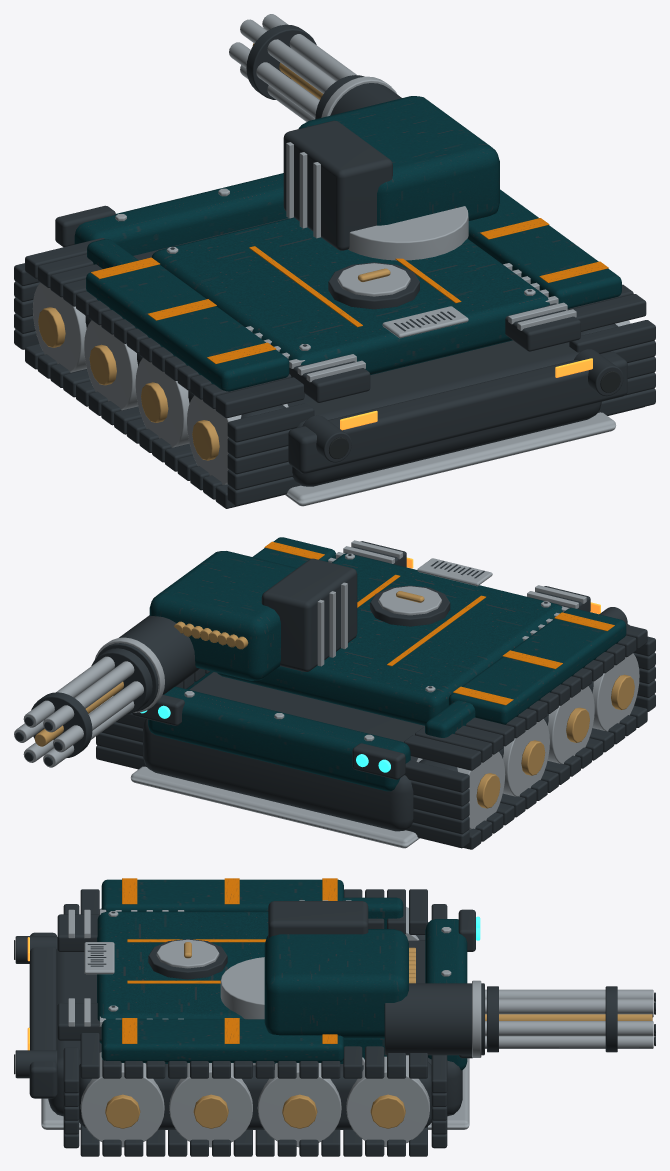
File: sentry.glb
3 views of the same model, one above another, from view 1: azimuth 30°, elevation 25°; view 2: azimuth 150°, elevation 25°; view 3: azimuth 270°, elevation 25° (orthographic). The views are drawn at different scales.
Visible parts, largest first — view 1: Detach_Drive_Left_Track, Detach_Armor_Deck, Detach_Weapon_Receiver, Structural_Chassis, Chassis_detail, Detach_Drive_Right_Track, Detach_Armor_Front, Detach_Weapon_Barrels, Detach_Armor_Left; view 2: Detach_Drive_Left_Track, Detach_Armor_Deck, Structural_Chassis, Detach_Weapon_Receiver, Detach_Armor_Front, Detach_Weapon_Barrels, Detach_Drive_Right_Track, Chassis_detail, Detach_Armor_Left; view 3: Detach_Drive_Right_Track, Detach_Weapon_Receiver, Detach_Armor_Deck, Structural_Chassis, Detach_Weapon_Barrels, Detach_Drive_Left_Track, Chassis_detail, Detach_Armor_Front, Detach_Armor_Left, Detach_Armor_Right.
Part boxes in pixels (bbox=[...]): Detach_Drive_Left_Track: bbox=[14, 238, 314, 508]; Detach_Armor_Deck: bbox=[151, 217, 549, 374]; Detach_Weapon_Receiver: bbox=[283, 76, 499, 260]; Structural_Chassis: bbox=[55, 205, 623, 506]; Chassis_detail: bbox=[288, 306, 627, 473]; Detach_Drive_Right_Track: bbox=[467, 189, 655, 415]; Detach_Armor_Front: bbox=[74, 173, 287, 255]; Detach_Weapon_Barrels: bbox=[229, 14, 364, 121]; Detach_Armor_Left: bbox=[87, 239, 138, 268]; Detach_Drive_Left_Track: bbox=[404, 608, 655, 849]; Detach_Armor_Deck: bbox=[217, 553, 562, 725]; Structural_Chassis: bbox=[130, 540, 627, 848]; Detach_Weapon_Receiver: bbox=[95, 551, 357, 712]; Detach_Armor_Front: bbox=[148, 686, 410, 791]; Detach_Weapon_Barrels: bbox=[14, 648, 152, 767]; Detach_Drive_Right_Track: bbox=[96, 537, 335, 769]; Chassis_detail: bbox=[406, 557, 629, 625]; Detach_Armor_Left: bbox=[425, 700, 475, 737]; Detach_Drive_Right_Track: bbox=[63, 1018, 447, 1156]; Detach_Weapon_Receiver: bbox=[220, 900, 484, 1057]; Detach_Armor_Deck: bbox=[97, 911, 268, 1043]; Structural_Chassis: bbox=[14, 909, 480, 1129]; Detach_Weapon_Barrels: bbox=[485, 986, 655, 1052]; Detach_Drive_Left_Track: bbox=[63, 878, 447, 940]; Chassis_detail: bbox=[27, 932, 114, 1098]; Detach_Armor_Front: bbox=[425, 919, 467, 1070]; Detach_Armor_Left: bbox=[343, 897, 403, 928]; Detach_Armor_Right: bbox=[145, 1038, 386, 1065].
Size of the model in its own units: 1.8 by 0.8275 by 2.76.
8 materials, 2 textured.
